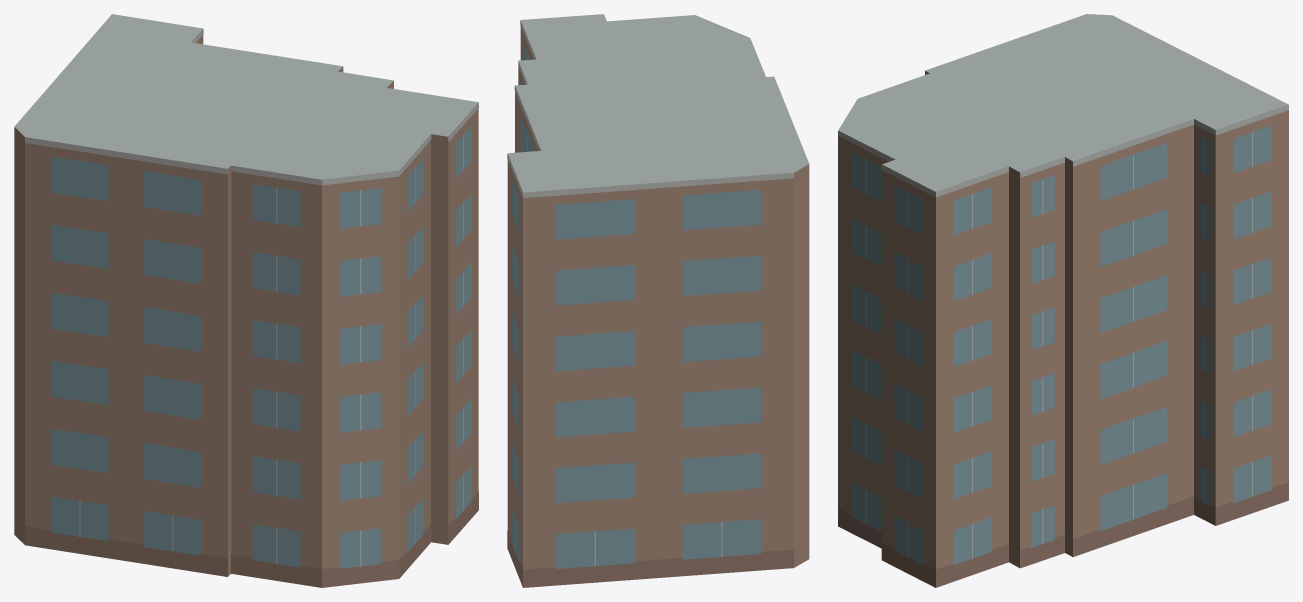
File: survey-upis-32734335.glb
3 renders of one model, left to right at view 1: azimuth 30°, elevation 25°; view 2: azimuth 150°, elevation 25°; view 3: azimuth 270°, elevation 25°, orthographic. The views are drawn at different scales.
Visible parts, largest first — view 1: survey-upis-32734335.tmp; view 2: survey-upis-32734335.tmp; view 3: survey-upis-32734335.tmp.
Boxes of the visible parts, box(x1,y1,x2,y2) form: survey-upis-32734335.tmp: box(14, 14, 478, 587); survey-upis-32734335.tmp: box(507, 14, 809, 587); survey-upis-32734335.tmp: box(838, 14, 1288, 587).
Bounding box in the file's own units: 16.69 × 17.3 × 17.86.
